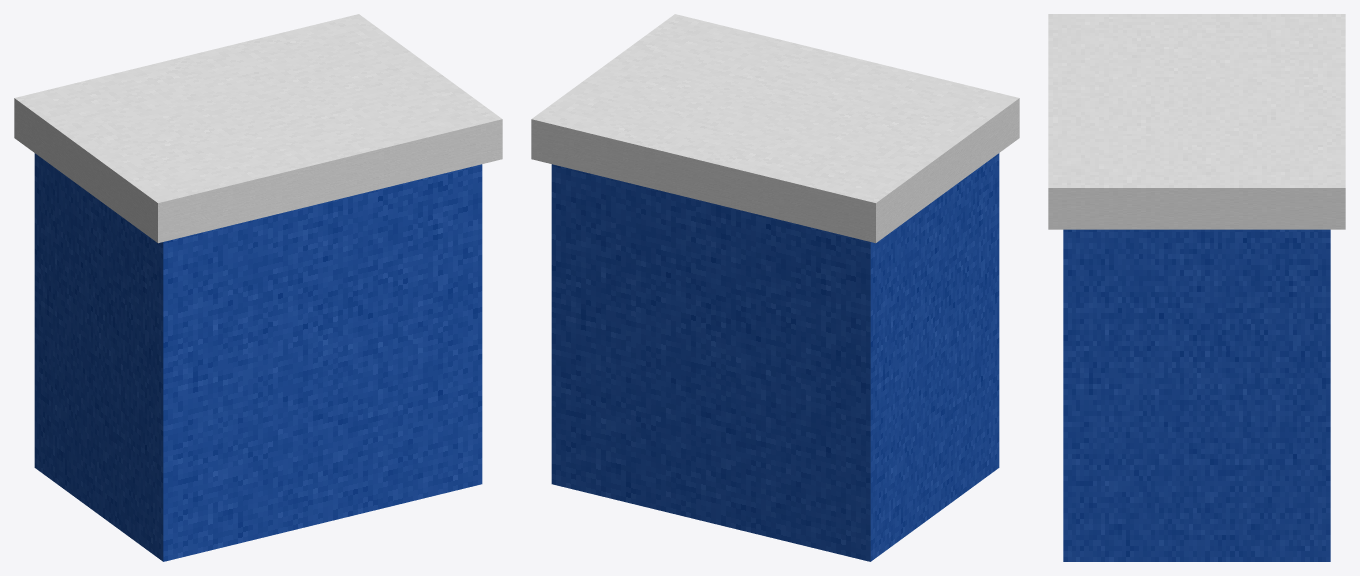
File: Hielera.obj
The picture shows the model from 3 angles, left to right: view 1: azimuth 30°, elevation 25°; view 2: azimuth 150°, elevation 25°; view 3: azimuth 270°, elevation 25°; orthographic projection. The views are drawn at different scales.
Size of the model in its own units: 0.54 by 0.55 by 0.39.
2 materials, 2 textured.
